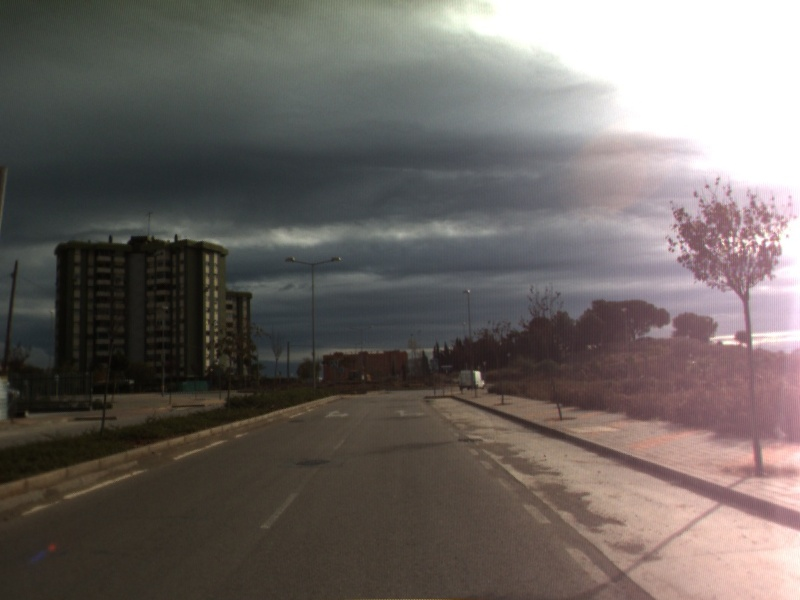STRAIGHT_RIGHT: (393, 407, 427, 419), (322, 407, 351, 419)
